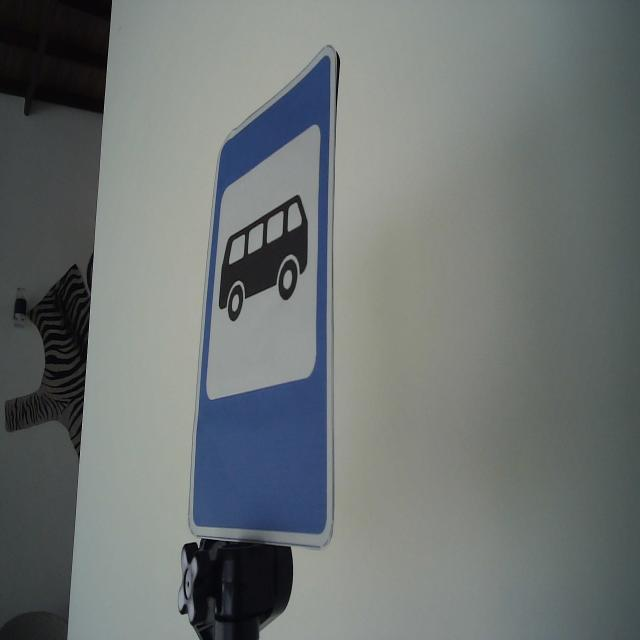bus_stop: (187, 40, 343, 555)
